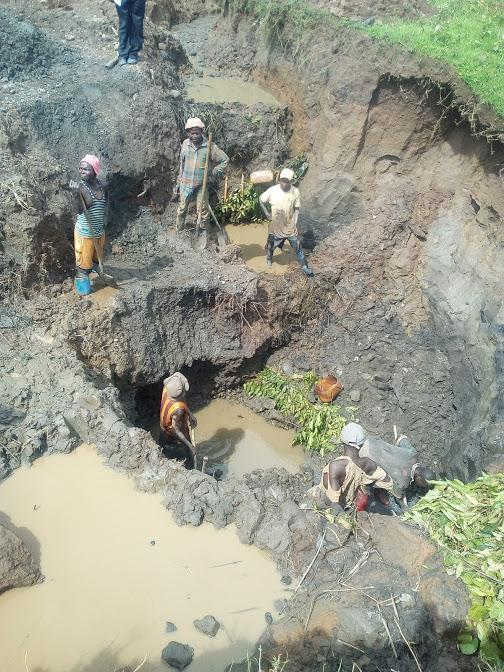MiningTool: (189, 130, 207, 252), (91, 224, 118, 288), (205, 202, 231, 248), (317, 370, 341, 403)
Person: (305, 421, 387, 519), (175, 117, 231, 251), (351, 436, 434, 510), (255, 167, 309, 273), (72, 153, 110, 296), (157, 370, 197, 463), (113, 1, 144, 69)
